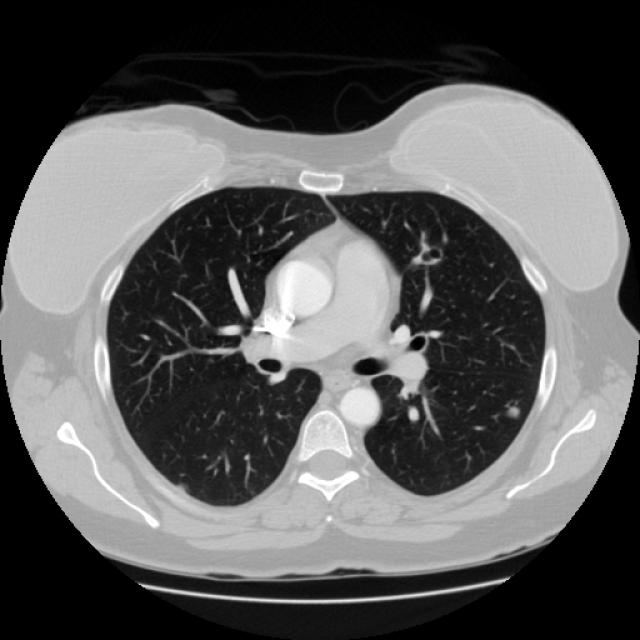nodule: (496, 395, 529, 427)
